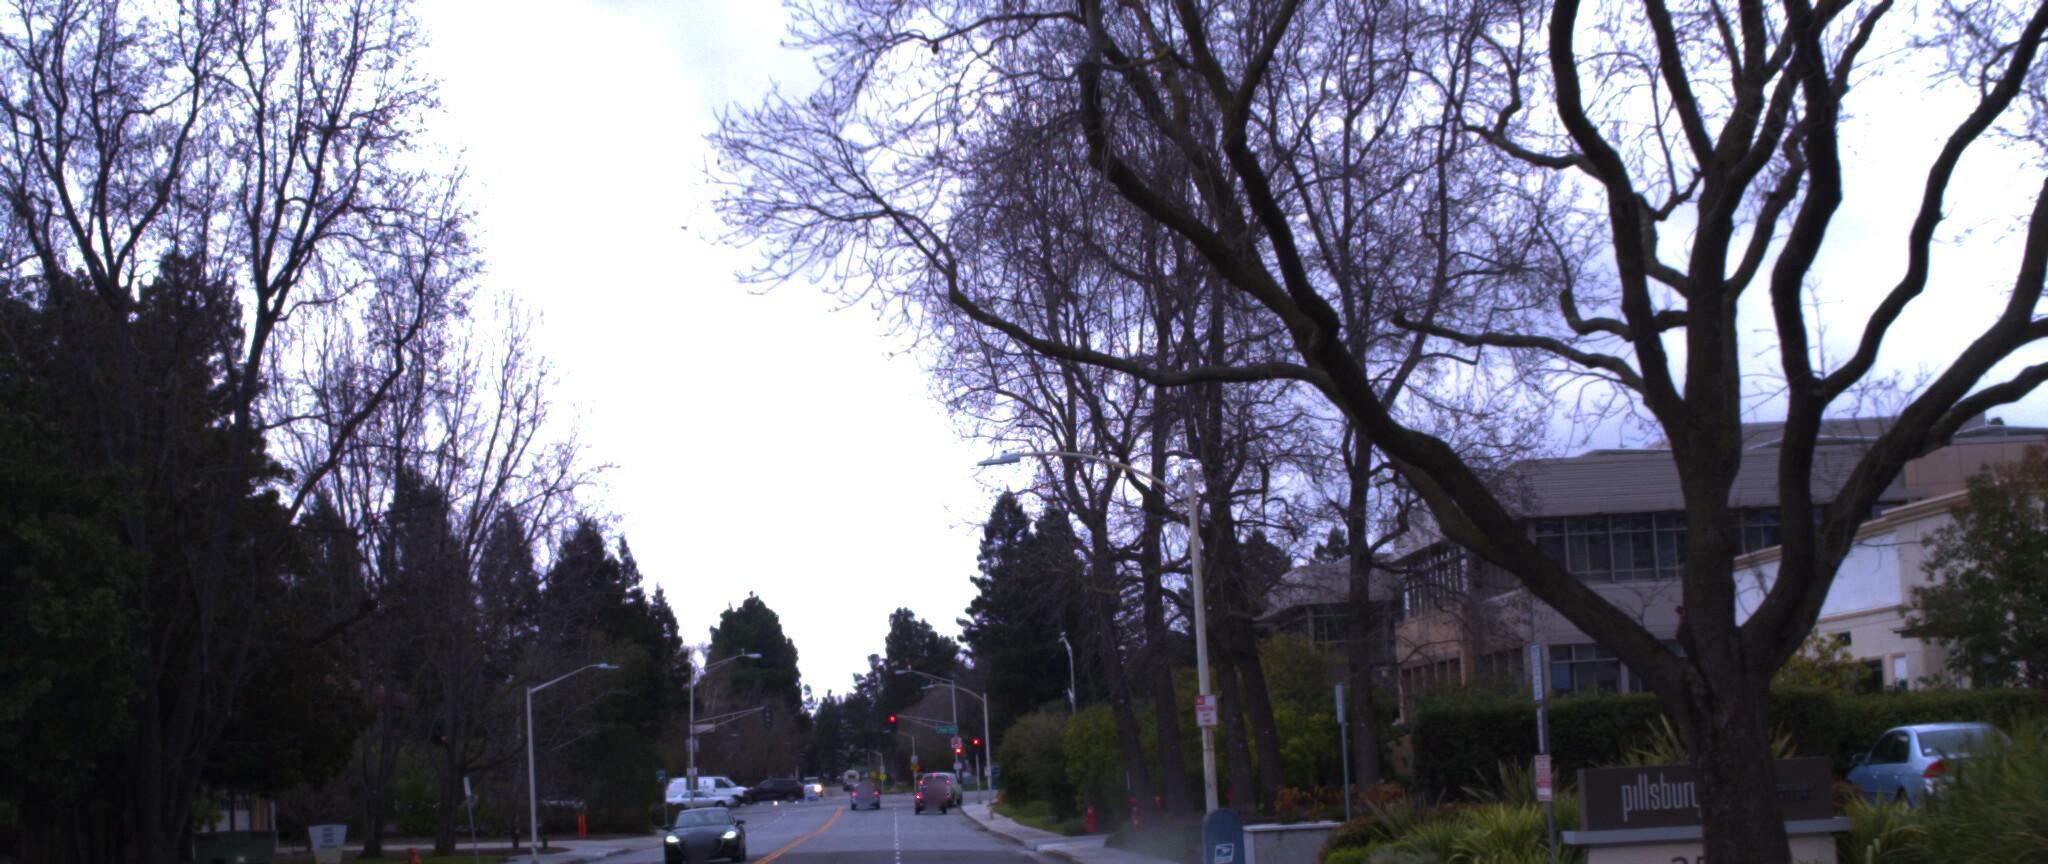car: (666, 792, 761, 859)
